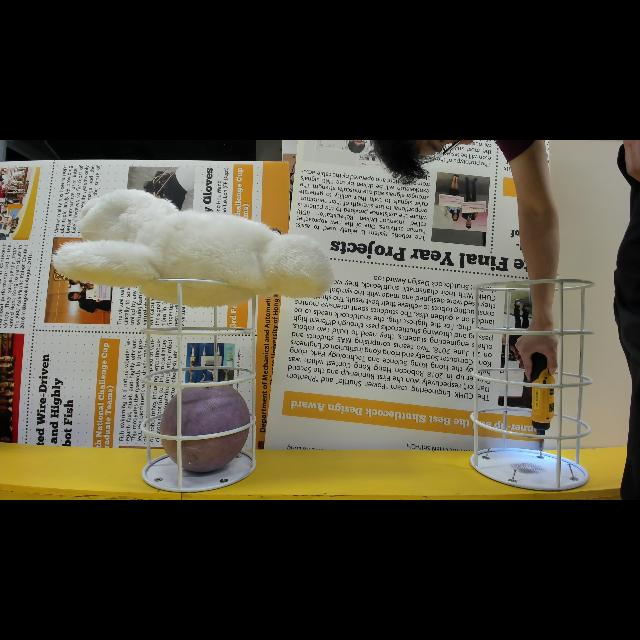P: (158, 379, 255, 477)
S: (465, 273, 597, 497), (134, 272, 258, 494)
